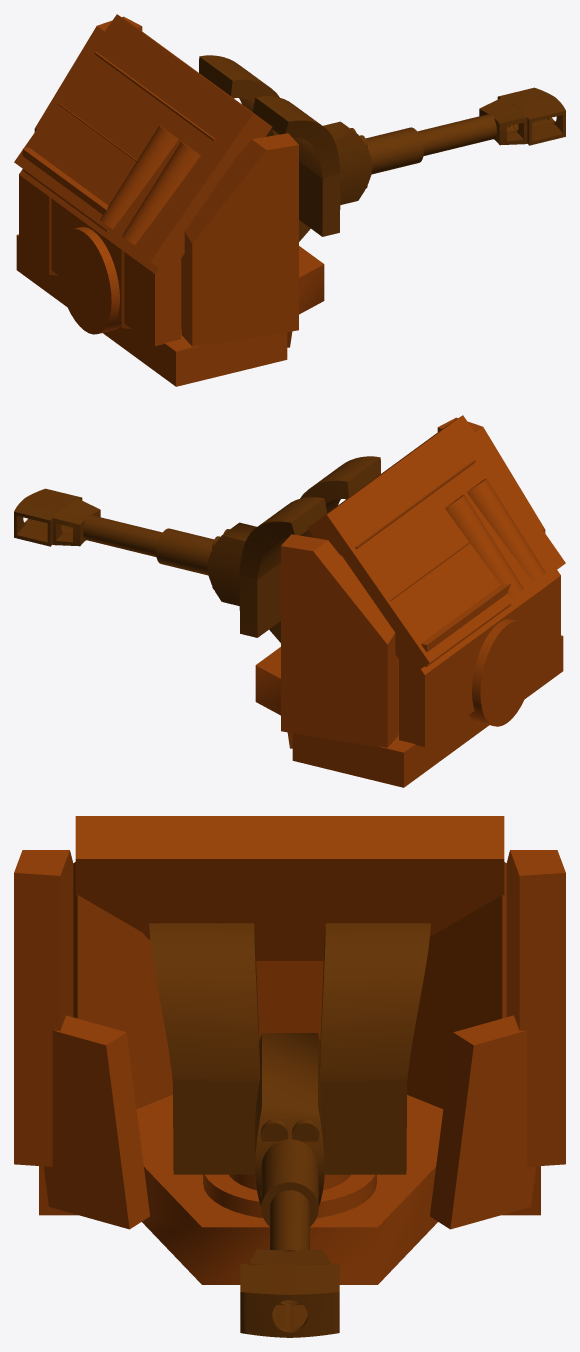
Rendered from Cannon Side Export.fbx.
3 views of the same model, one above another, from view 1: azimuth 30°, elevation 25°; view 2: azimuth 150°, elevation 25°; view 3: azimuth 270°, elevation 25° (orthographic). The views are drawn at different scales.
Visible parts, largest first — view 1: edges_1, rest_1, frontbit; view 2: edges_1, rest_1, frontbit; view 3: edges_1, rest_1, frontbit.
Part boxes in pixels (x1=…): edges_1: x1=14, y1=14, x2=324, y2=386; rest_1: x1=199, y1=55, x2=423, y2=241; frontbit: x1=417, y1=87, x2=565, y2=156; edges_1: x1=255, y1=415, x2=565, y2=787; rest_1: x1=156, y1=456, x2=380, y2=642; frontbit: x1=14, y1=488, x2=162, y2=557; edges_1: x1=14, y1=816, x2=565, y2=1284; rest_1: x1=149, y1=923, x2=430, y2=1226; frontbit: x1=240, y1=1190, x2=339, y2=1337.
Size of the model in its own units: 57.82 by 28.23 by 36.84.
